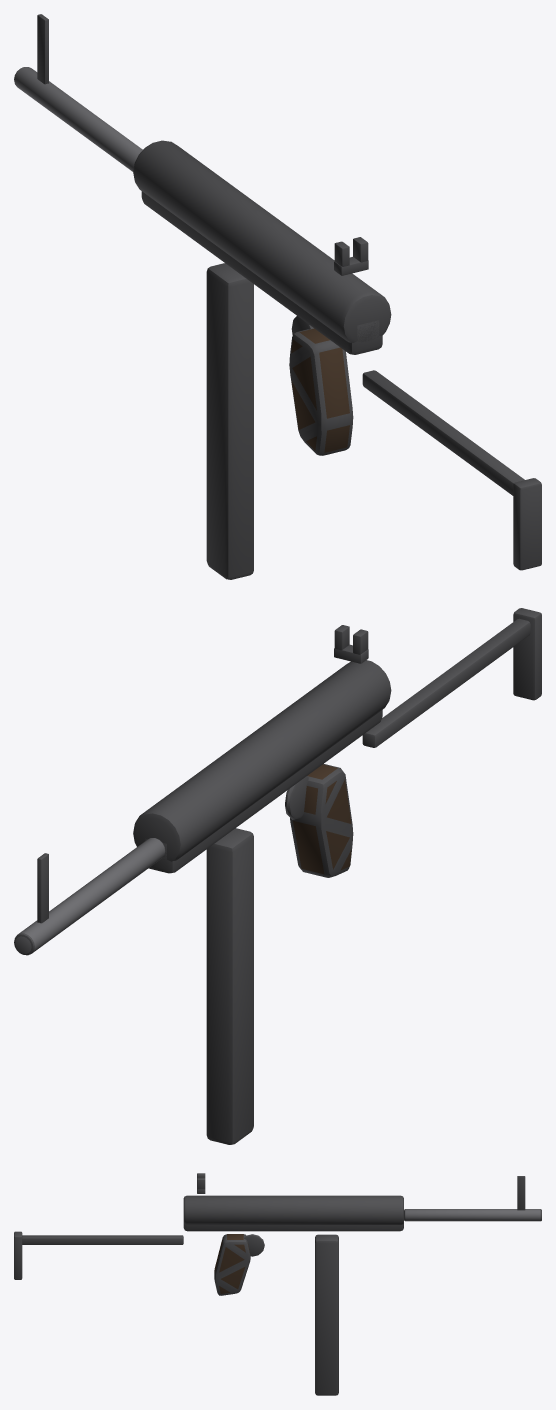
3 renders of one model, top to bottom at view 1: azimuth 30°, elevation 25°; view 2: azimuth 150°, elevation 25°; view 3: azimuth 270°, elevation 25°, orthographic. The views are drawn at different scales.
Visible parts, largest first — view 1: mp40_LOD0; view 2: mp40_LOD0; view 3: mp40_LOD0.
Boxes of the visible parts, bbox=[...] form: mp40_LOD0: bbox=[14, 14, 541, 579]; mp40_LOD0: bbox=[14, 608, 541, 1144]; mp40_LOD0: bbox=[14, 1173, 541, 1395].
Size of the model in its own units: 0.044 by 0.347 by 0.766.
